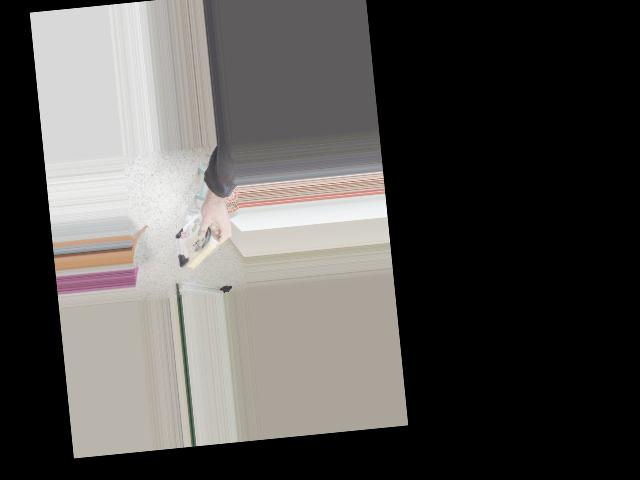cheese: (157, 213, 240, 285)
